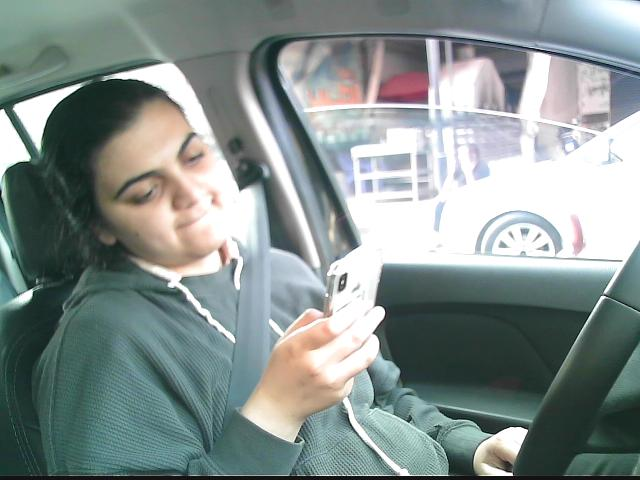PhoneUse: (321, 241, 385, 364)
